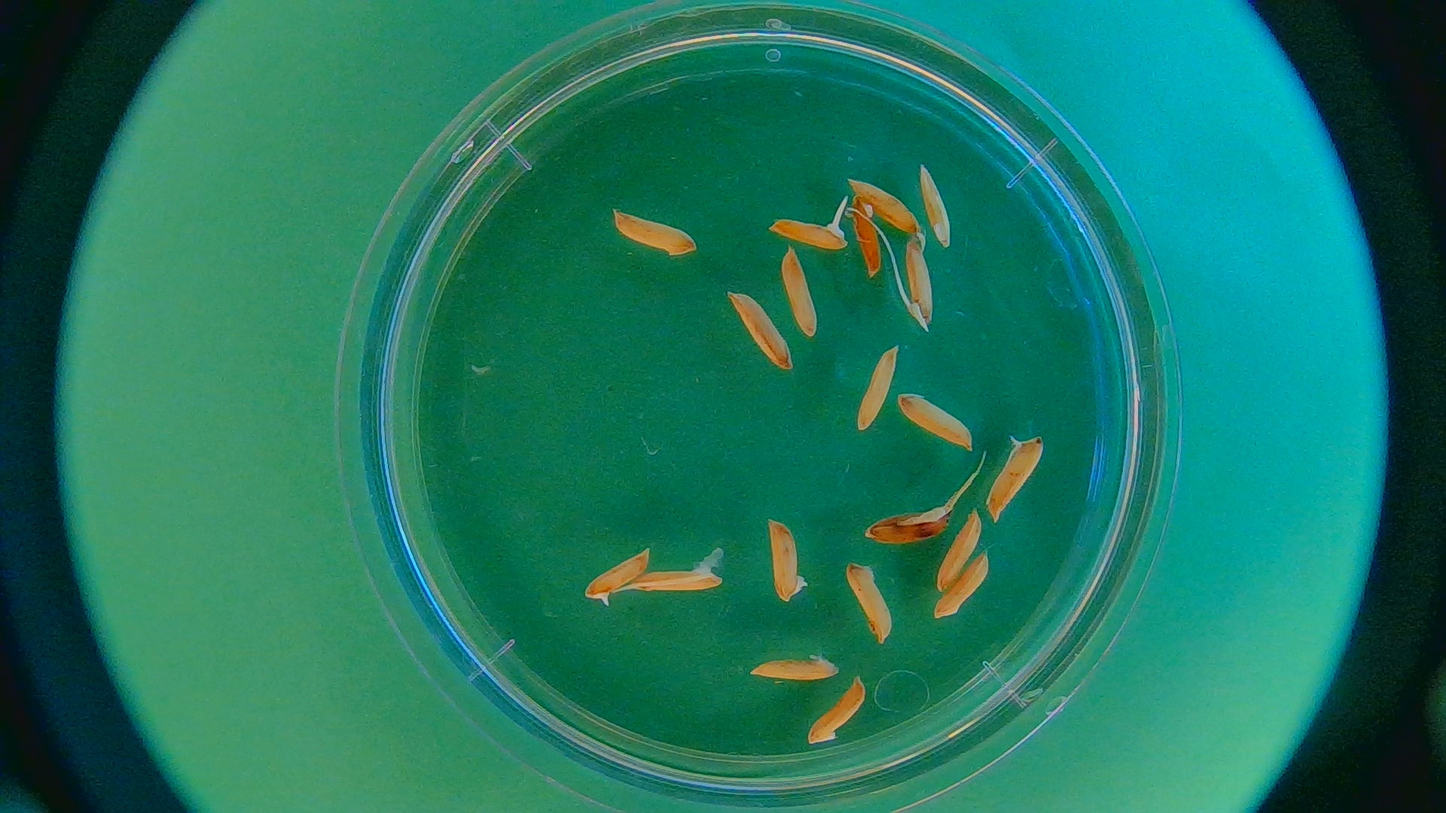no: (844, 169, 929, 240), (728, 291, 794, 370), (808, 673, 873, 748), (897, 394, 972, 450), (846, 564, 894, 644), (932, 556, 990, 617), (615, 212, 698, 254), (781, 247, 819, 337), (939, 507, 980, 590), (848, 198, 891, 276), (737, 650, 845, 681), (856, 346, 896, 429), (770, 519, 807, 604), (917, 162, 953, 247)
yes: (989, 443, 1044, 518), (587, 547, 652, 598), (867, 507, 951, 545), (633, 558, 721, 592), (905, 239, 938, 327), (775, 217, 849, 248)
